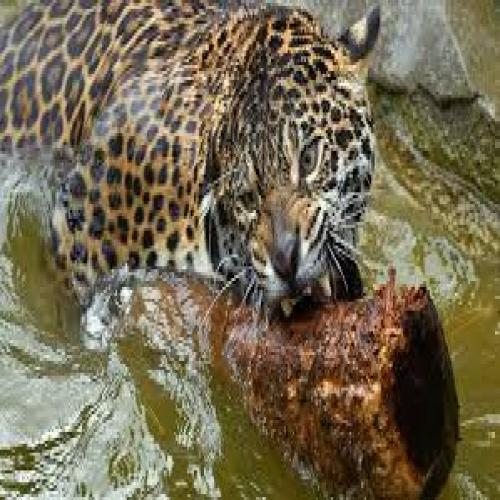jaguar_not-endangered: (0, 0, 380, 320)
